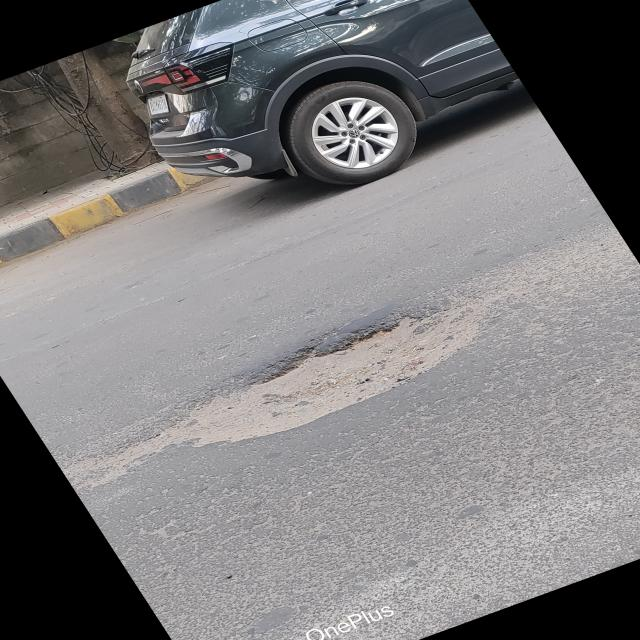potholes: (138, 289, 462, 460)
